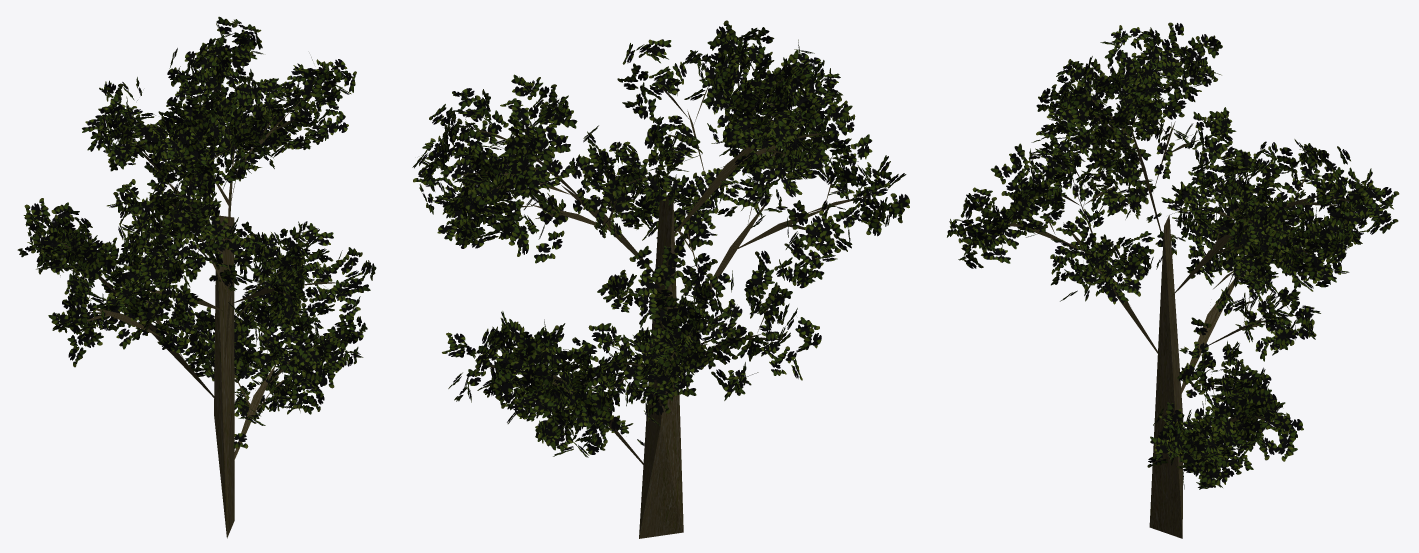
File: evergreen_broad_v01_LOD2.fbx
The picture shows the model from 3 angles, left to right: view 1: azimuth 30°, elevation 25°; view 2: azimuth 150°, elevation 25°; view 3: azimuth 270°, elevation 25°; orthographic projection. The views are drawn at different scales.
Visible parts, largest first — view 1: evergreen_broad_v01_LOD2; view 2: evergreen_broad_v01_LOD2; view 3: evergreen_broad_v01_LOD2.
Boxes of the visible parts, box(x1,y1,x2,y2) form: evergreen_broad_v01_LOD2: box(17, 16, 376, 538); evergreen_broad_v01_LOD2: box(412, 20, 909, 538); evergreen_broad_v01_LOD2: box(947, 22, 1399, 538).
Size of the model in its own units: 1444 by 1707 by 1924.
Materials: 2 (2 with a texture image).
